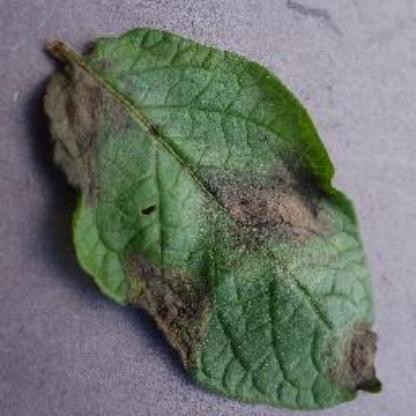Late-Blight: (25, 22, 401, 413)
